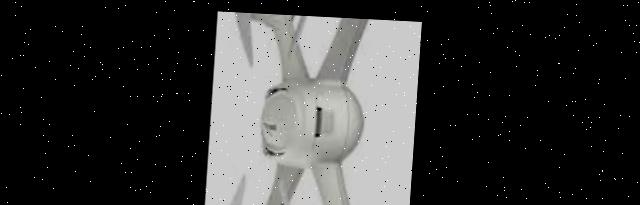drone: (206, 9, 422, 205)
